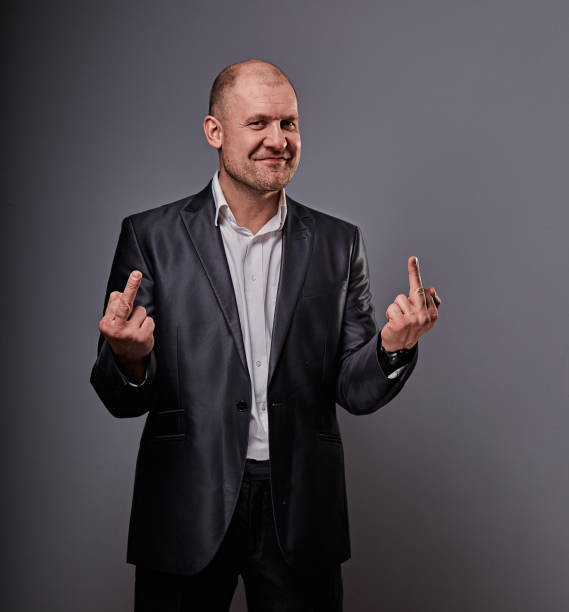insulting_gesture: (377, 255, 444, 354), (100, 267, 157, 354)
